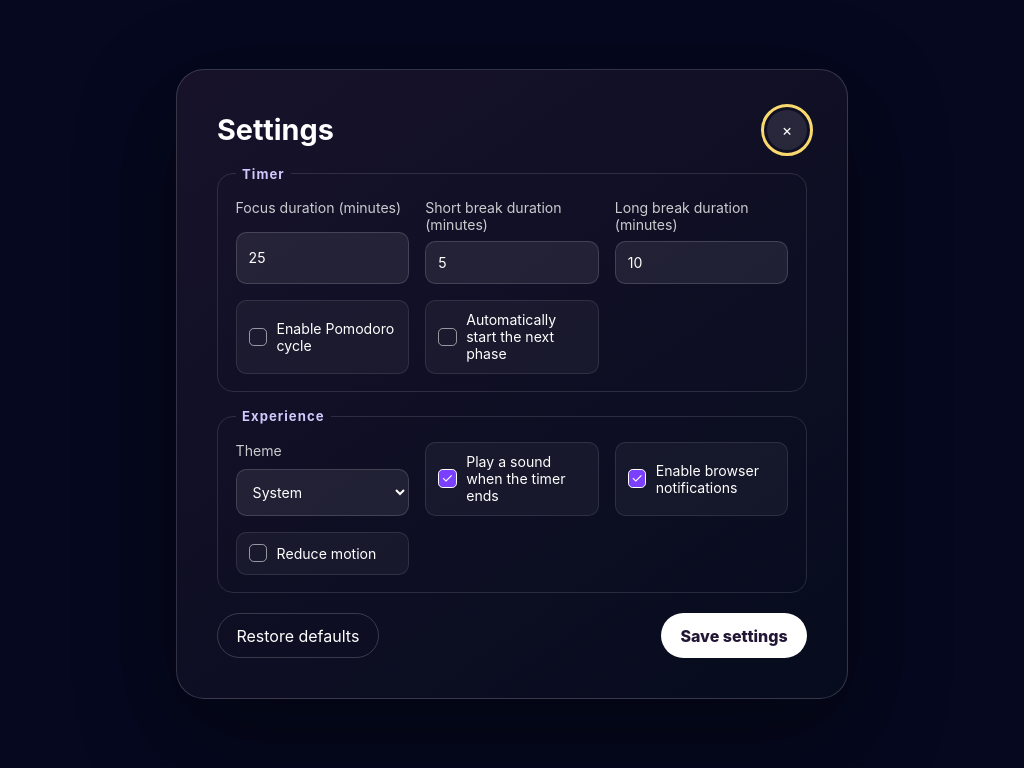
Test case: SettingsDialog › shows a success message and stays open after saving settings
Replace the text in the number field labelled "Focus duration (minutes)" with "26" at (322, 258), box x1=236 y1=232 x2=409 y2=284
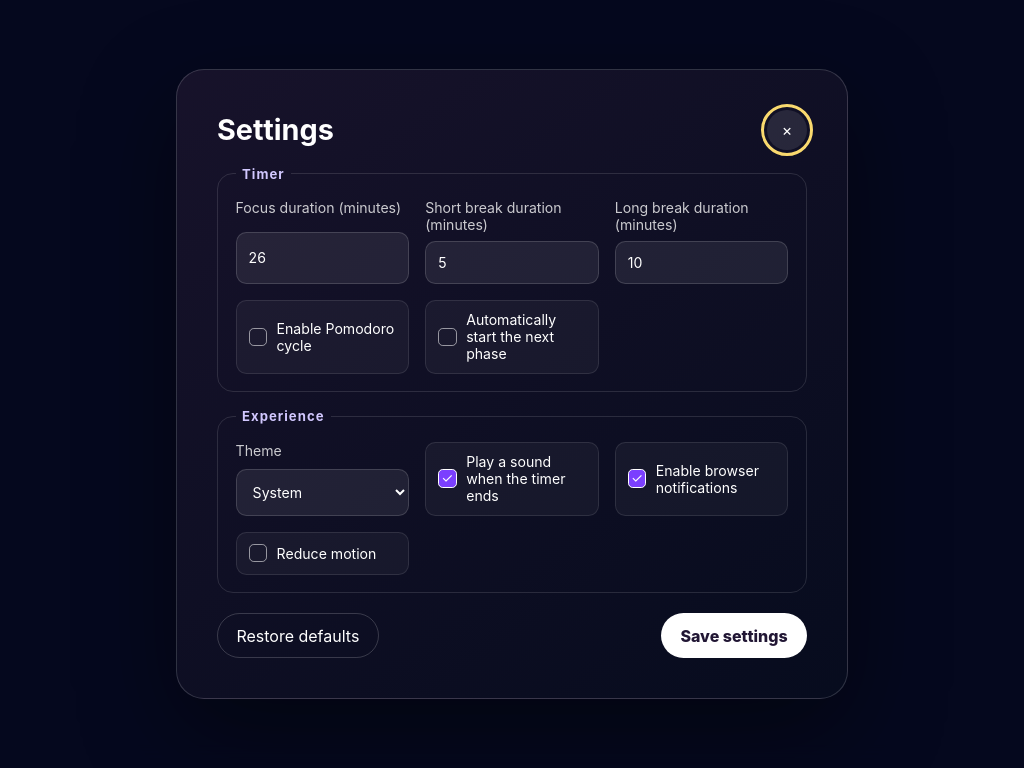
Click the button "Save settings" at (734, 636), box x1=661 y1=613 x2=807 y2=658
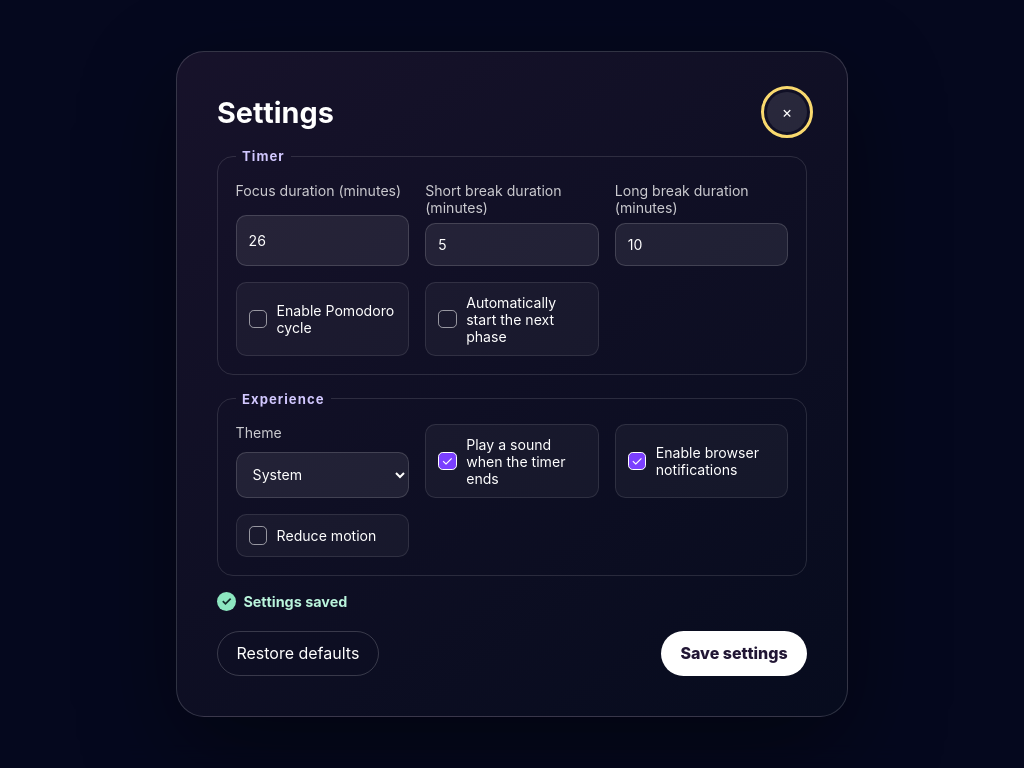
Expected: the dialog "Settings" is shown, x1=176 y1=51 x2=848 y2=717
Now the message reads "Settings saved", box x1=243 y1=593 x2=347 y2=610
